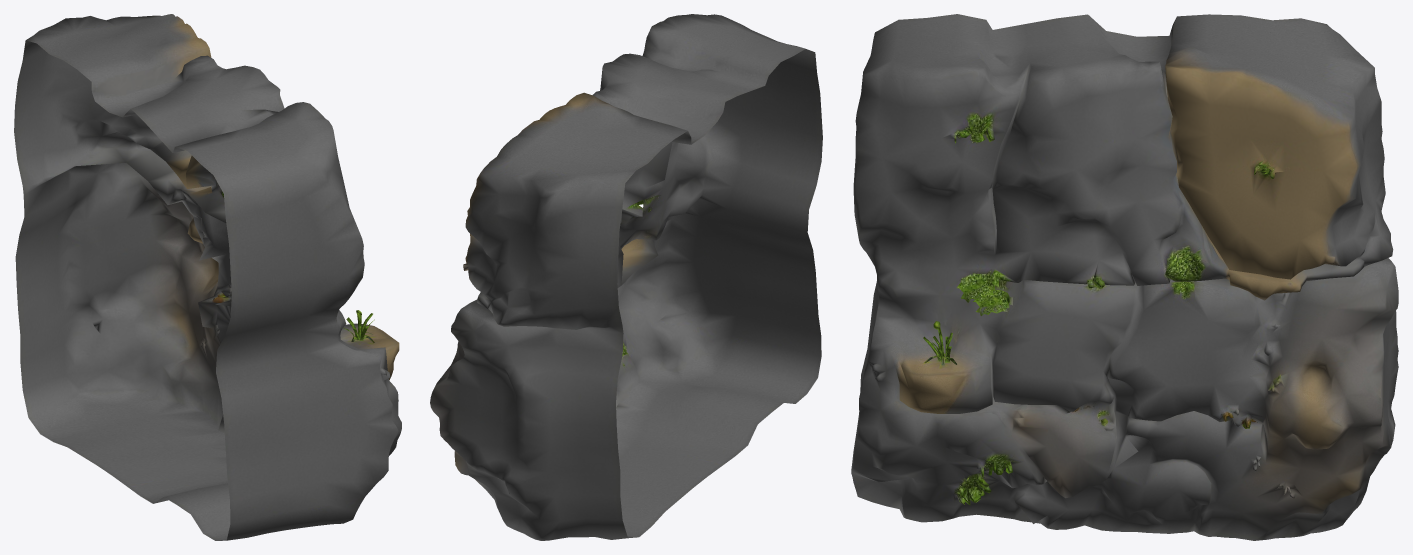
File: cave-moss-stone-wall.glb
3 renders of one model, left to right at view 1: azimuth 30°, elevation 25°; view 2: azimuth 150°, elevation 25°; view 3: azimuth 270°, elevation 25°, orthographic. The views are drawn at different scales.
Parts seen in each view (by area): view 1: tripo_node_1178bb97-21bd-42b4-9d84-98a69ad34790; view 2: tripo_node_1178bb97-21bd-42b4-9d84-98a69ad34790; view 3: tripo_node_1178bb97-21bd-42b4-9d84-98a69ad34790.
Boxes of the visible parts, x1,y1,x2,y2 form: tripo_node_1178bb97-21bd-42b4-9d84-98a69ad34790: (14,14,401,540); tripo_node_1178bb97-21bd-42b4-9d84-98a69ad34790: (430,14,822,540); tripo_node_1178bb97-21bd-42b4-9d84-98a69ad34790: (851,14,1398,540).
Bounding box in the file's own units: 0.4629 × 0.9277 × 0.998.
Materials: 1 (1 with a texture image).
